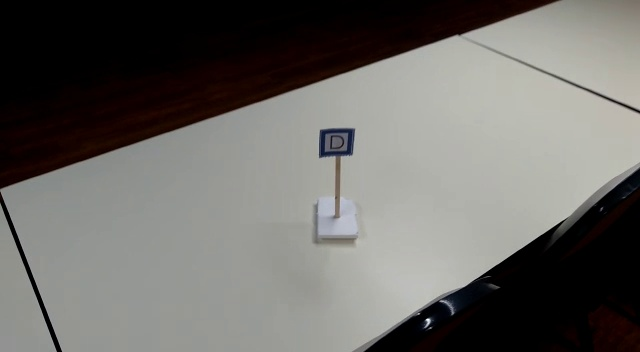durak: (319, 127, 354, 159)
